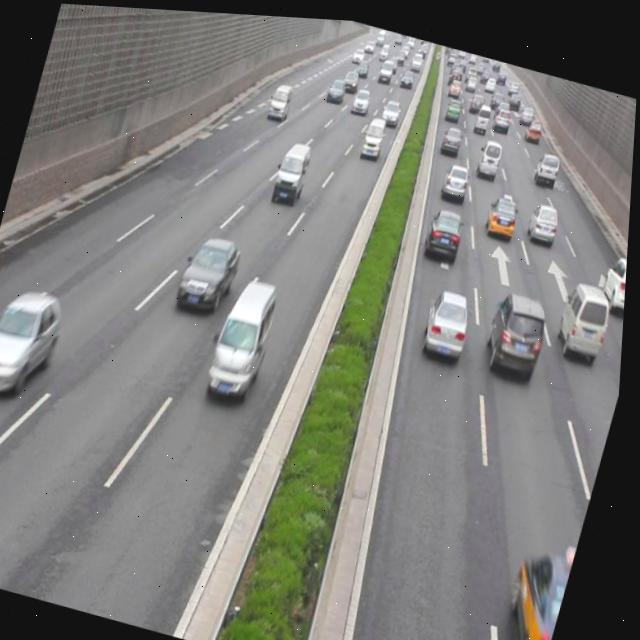car: (0, 277, 74, 410), (498, 526, 583, 640), (482, 281, 555, 379), (175, 227, 246, 318), (419, 283, 477, 357), (424, 198, 468, 256), (596, 243, 630, 311), (484, 185, 523, 235), (525, 195, 564, 238), (441, 155, 473, 196), (532, 144, 561, 178), (438, 117, 463, 151)
truck: (207, 268, 284, 403), (553, 268, 618, 356), (270, 133, 315, 201), (359, 111, 389, 156), (475, 130, 504, 170), (267, 80, 294, 120)
